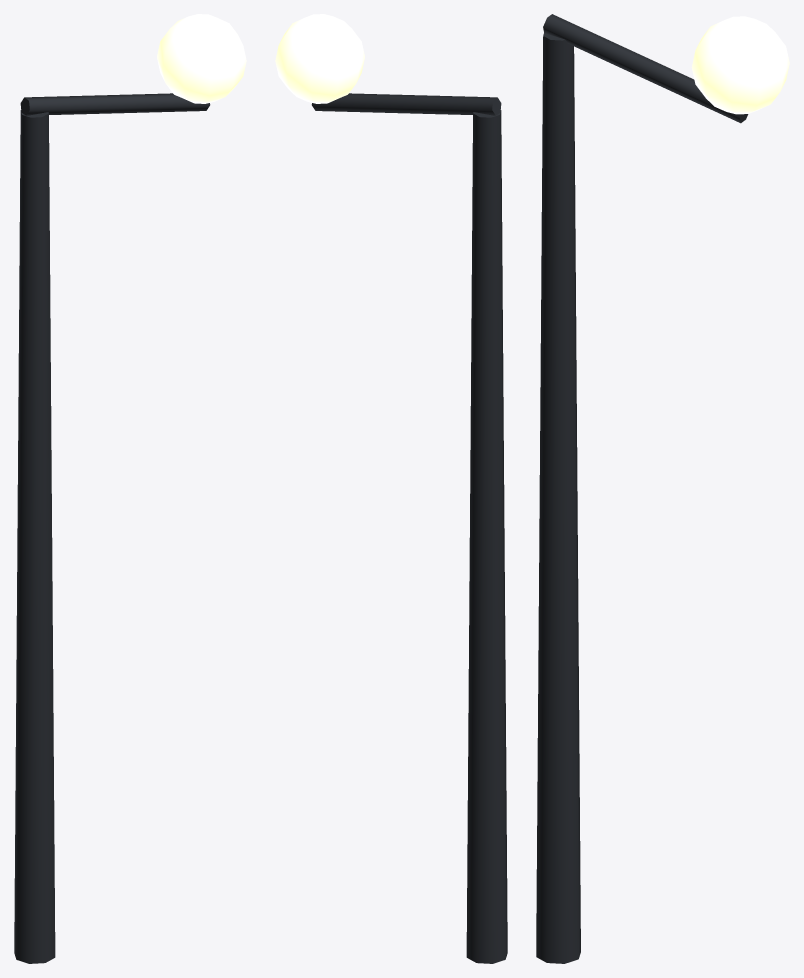
Rendered from tiang_lampu.glb.
3 renders of one model, left to right at view 1: azimuth 30°, elevation 25°; view 2: azimuth 150°, elevation 25°; view 3: azimuth 330°, elevation 25°, orthographic. The views are drawn at different scales.
Bounding box in the file's own units: 1.95 × 7.44 × 0.6467.
